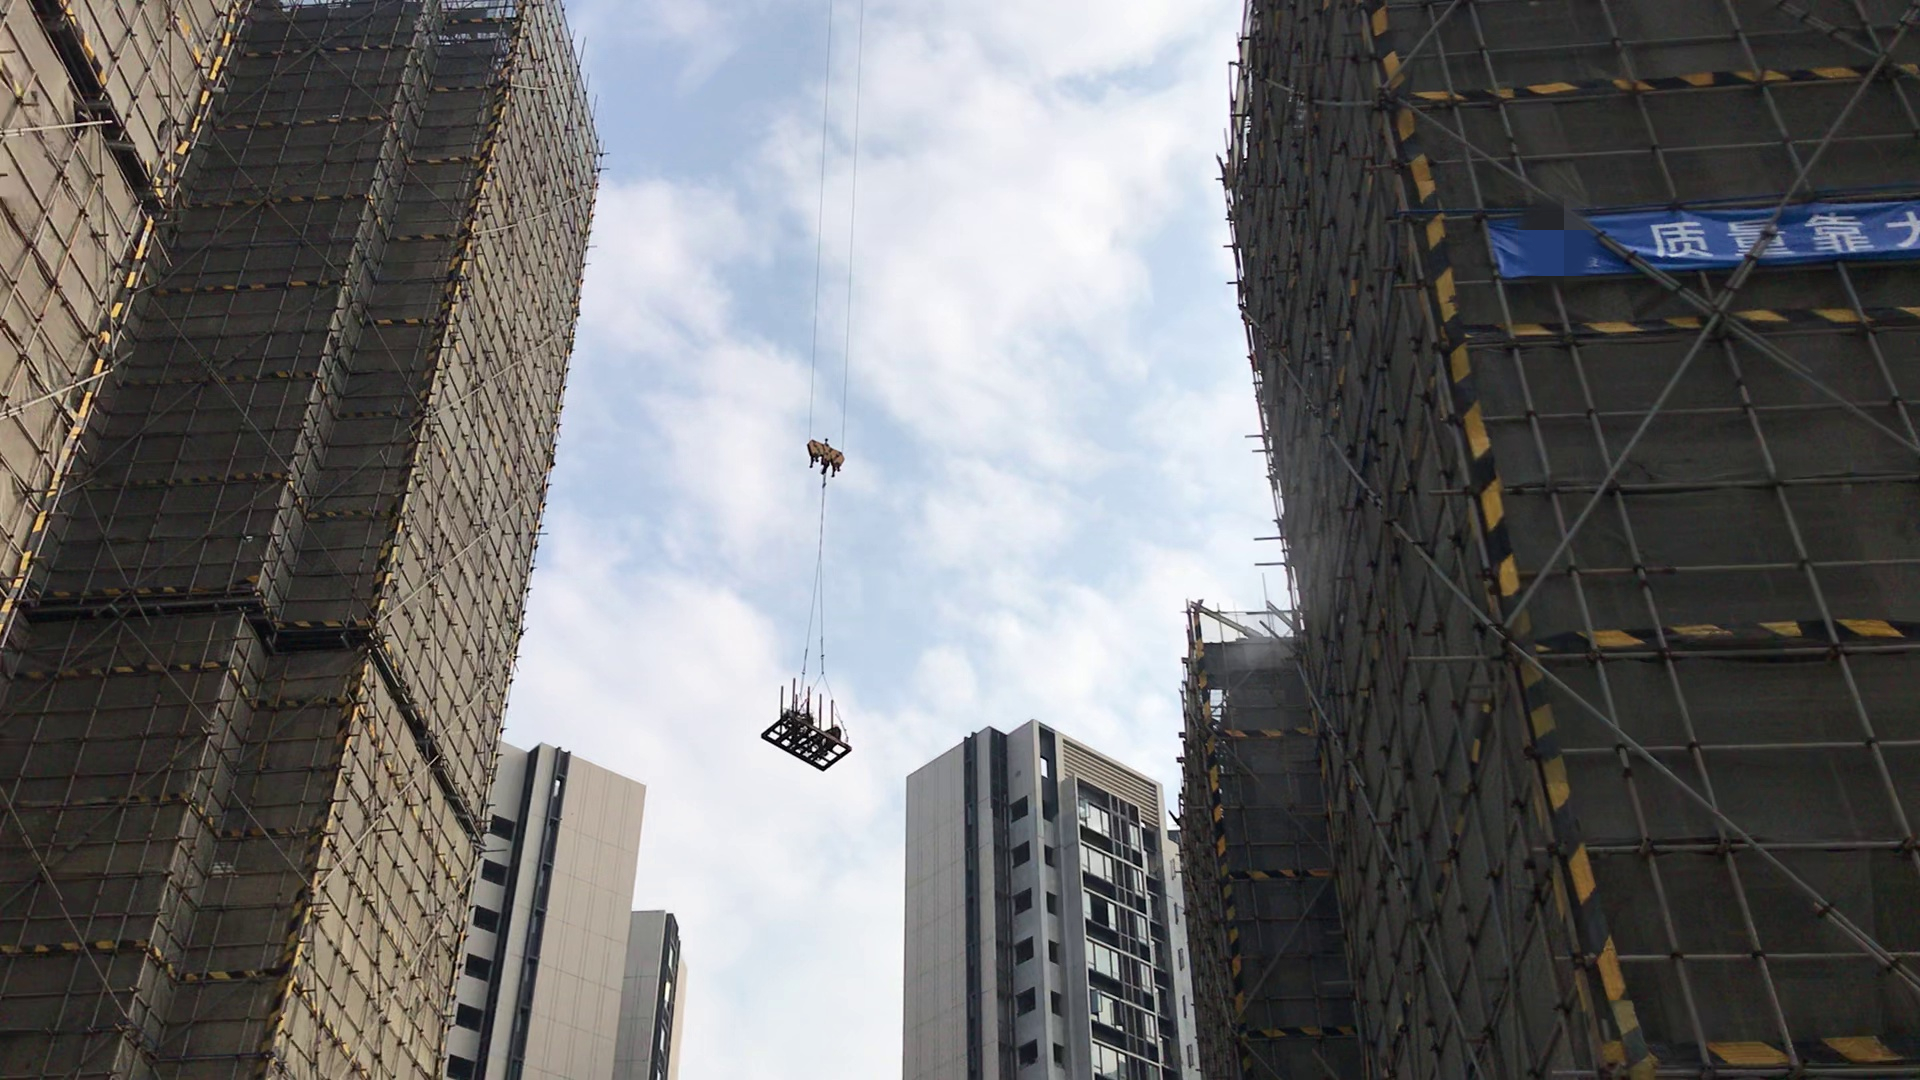hook: (803, 431, 857, 479)
slogan: (1527, 198, 1920, 258)
